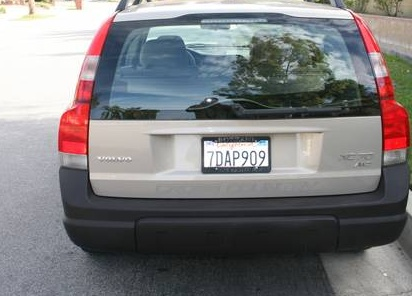volvo: (28, 1, 412, 262)
